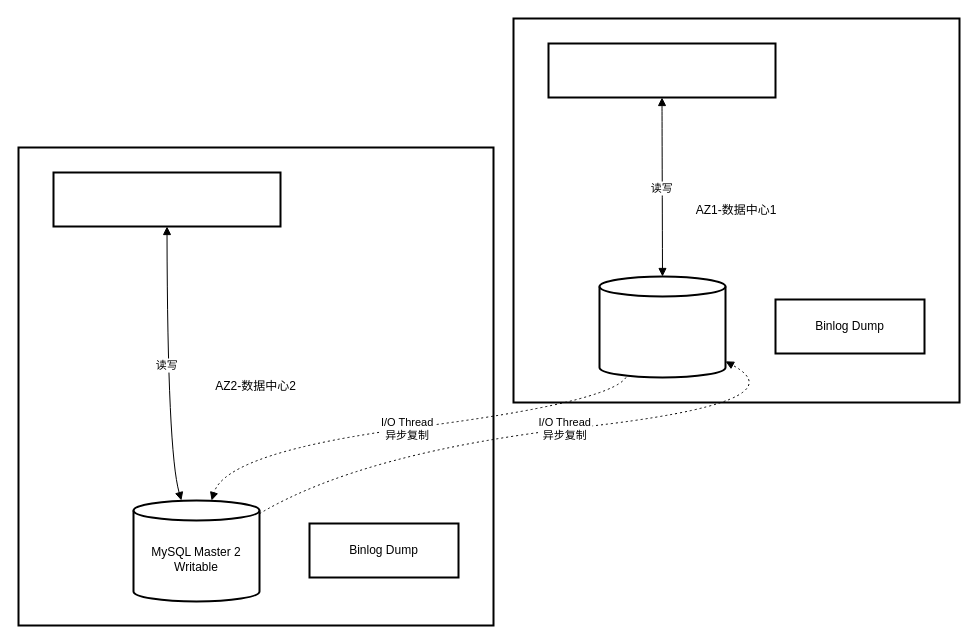
This 977x643 diagram has some shape labels left out. Each missing label, with the centre of its shape:
Application Cluster AZ1: (x=661, y=70)
Application Cluster AZ2: (x=166, y=199)
MySQL Master 1 Writable: (x=662, y=326)
